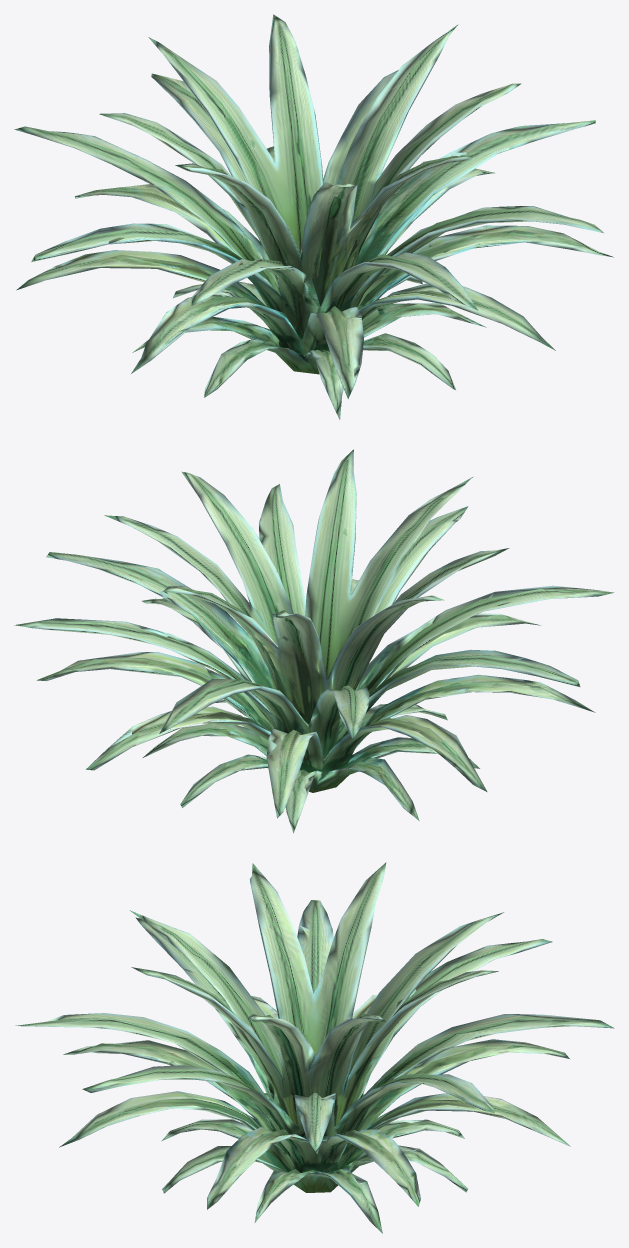
3 renders of one model, top to bottom at view 1: azimuth 30°, elevation 25°; view 2: azimuth 150°, elevation 25°; view 3: azimuth 270°, elevation 25°, orthographic. The views are drawn at different scales.
Parts seen in each view (by area): view 1: Mesh_0; view 2: Mesh_0; view 3: Mesh_0.
Part boxes in pixels (box(x1,y1,x2,y2)): Mesh_0: box(14, 14, 613, 419); Mesh_0: box(14, 449, 613, 833); Mesh_0: box(15, 862, 614, 1233).
Bounding box in the file's own units: 1.91 × 0.8644 × 1.91.
Materials: 1 (1 with a texture image).
